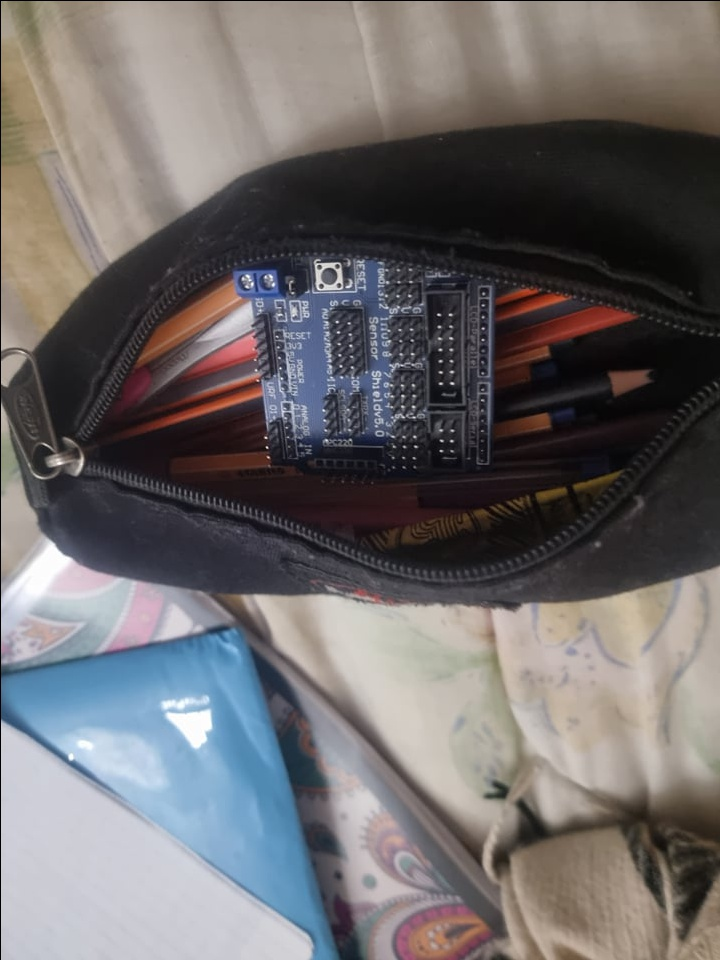5V EXPANSION: (230, 252, 500, 475)
